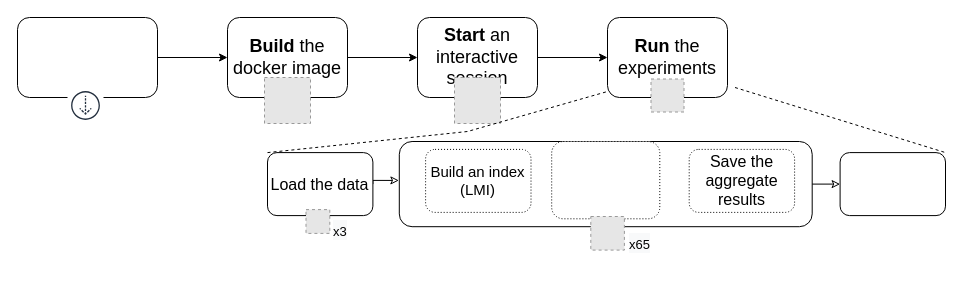
This 964x299 diagram has some shape labels left out. Grey dashed boxes stand in for pictures. Each missing label, with the centre of its shape:
"Create the report" belongs at point (892, 184).
"Download and extract LMIF" belongs at point (87, 57).
"Run+evaluate the search (1000 queries)" belongs at point (605, 179).
